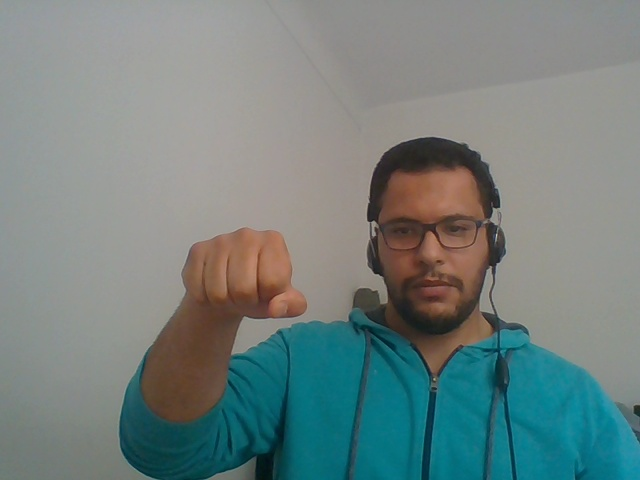yes: (154, 204, 314, 355)
